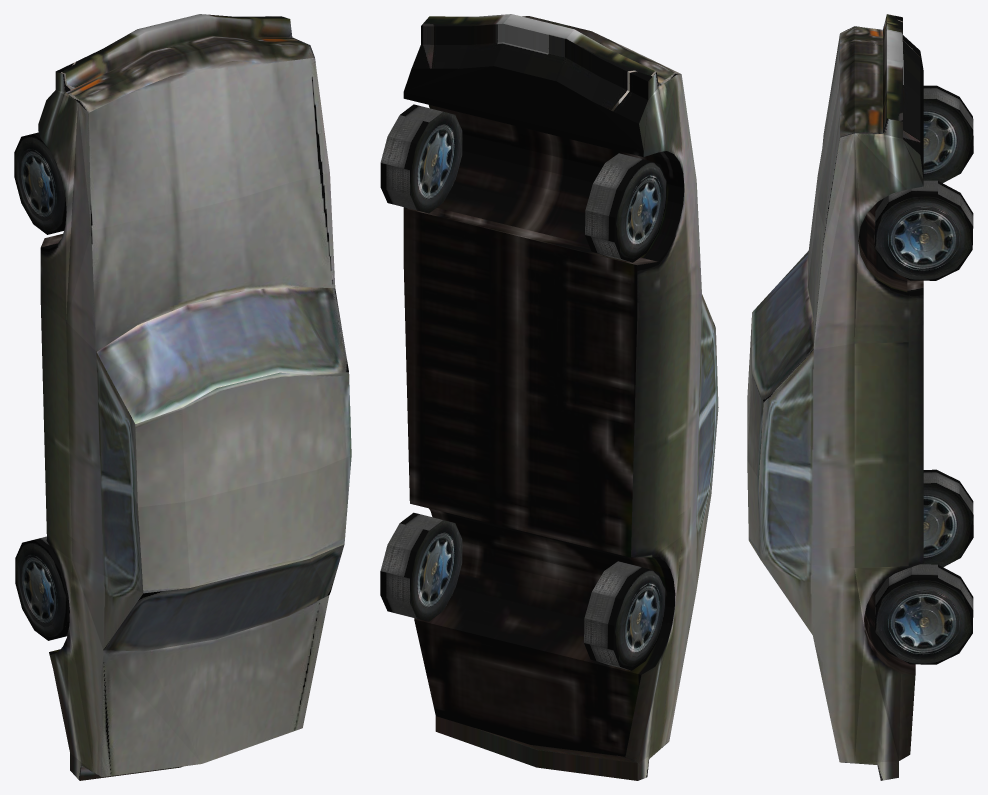
The model's file is carpack_jaguar_wtf.obj.
3 views of the same model, side by side, from view 1: azimuth 30°, elevation 25°; view 2: azimuth 150°, elevation 25°; view 3: azimuth 270°, elevation 25° (orthographic). The views are drawn at different scales.
Visible parts, largest first — view 1: group2; view 2: group2; view 3: group2.
Part boxes in pixels (x1=…): group2: x1=14, y1=14, x2=351, y2=780; group2: x1=380, y1=14, x2=718, y2=780; group2: x1=747, y1=14, x2=973, y2=780.
Size of the model in its own units: 239 by 660 by 194.
